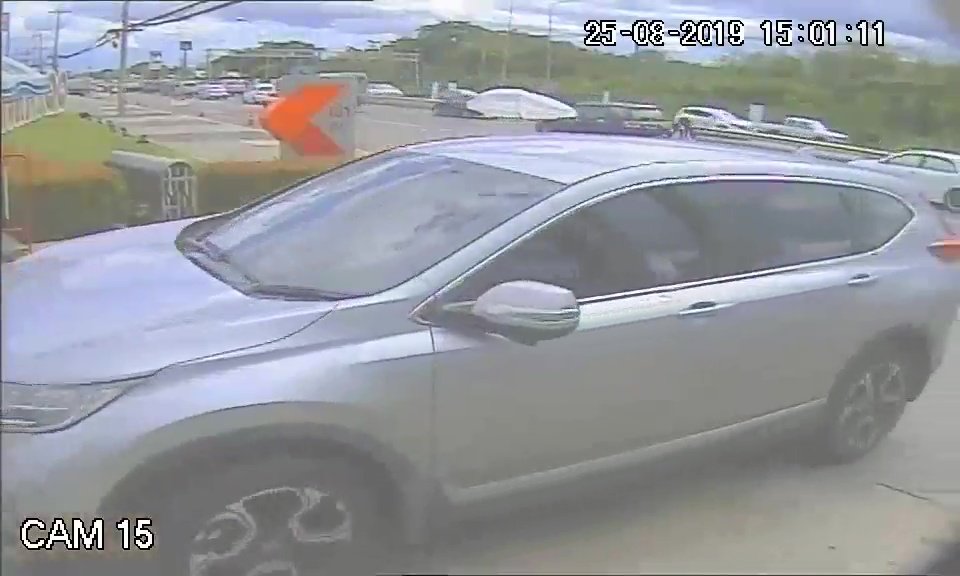pickup: (14, 126, 951, 476)
